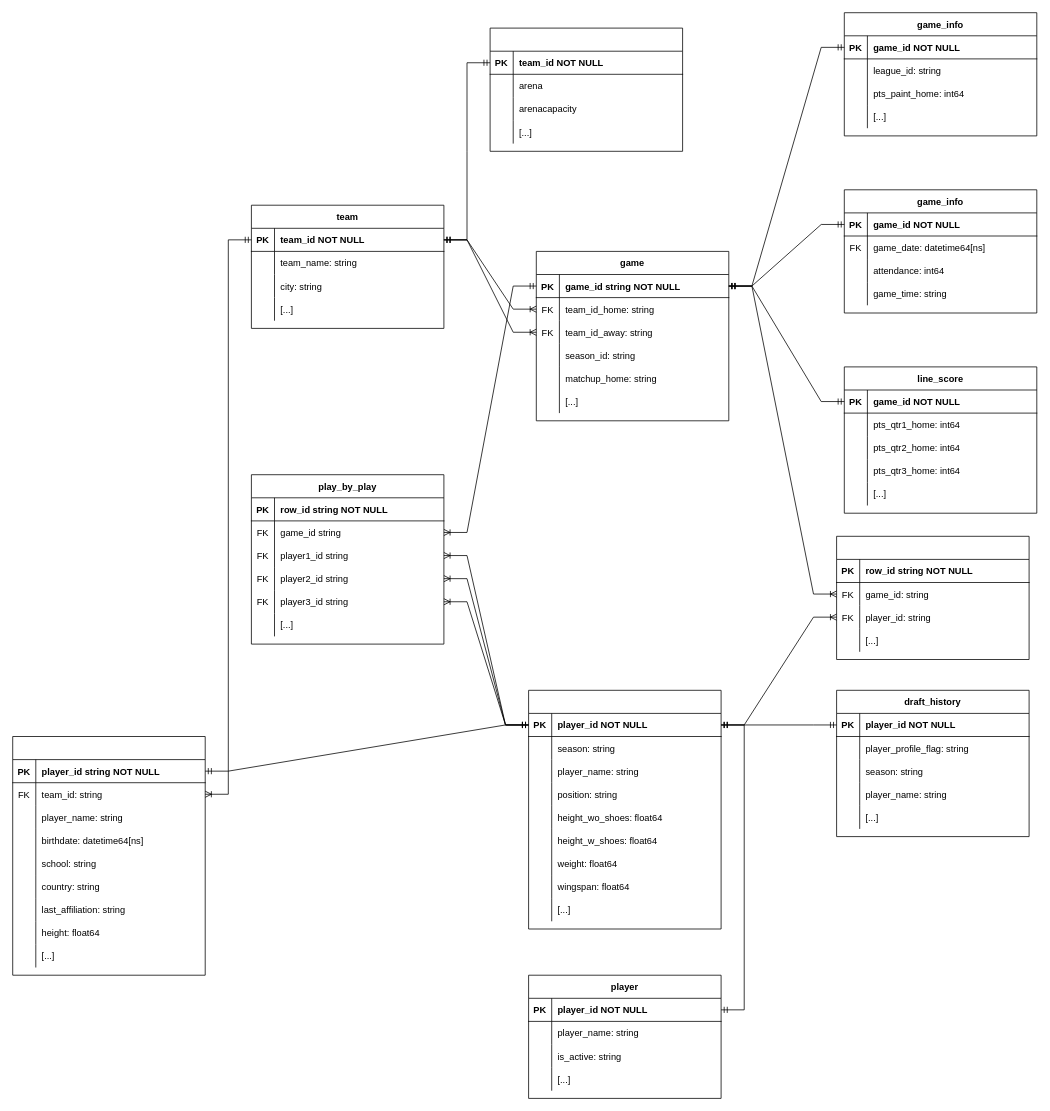
Image size: 1050x1111. Some labels were removed from this diagram. Each missing label, with the box of its shape:
common_player_info: (12, 736, 205, 975)
draft_combine_stats: (528, 690, 721, 929)
inactive_player: (836, 536, 1029, 660)
team_details: (489, 27, 683, 151)
